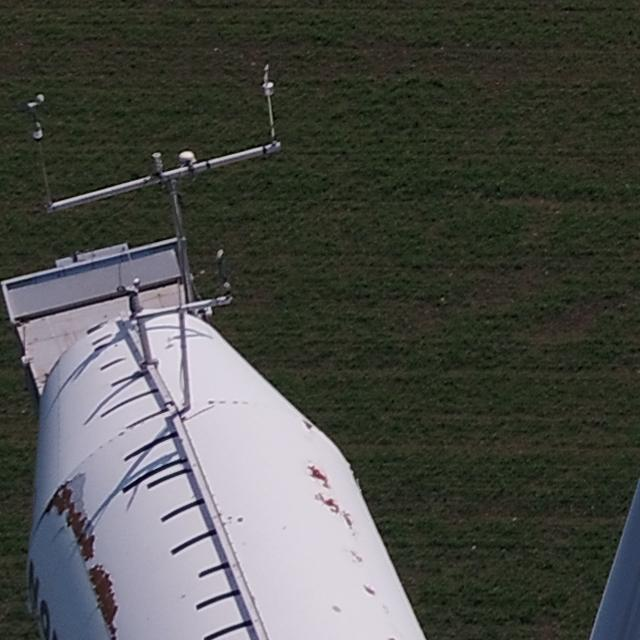damage: (39, 471, 98, 562), (84, 561, 123, 636), (314, 492, 341, 516), (306, 463, 329, 487), (341, 509, 355, 529), (362, 581, 375, 596)
